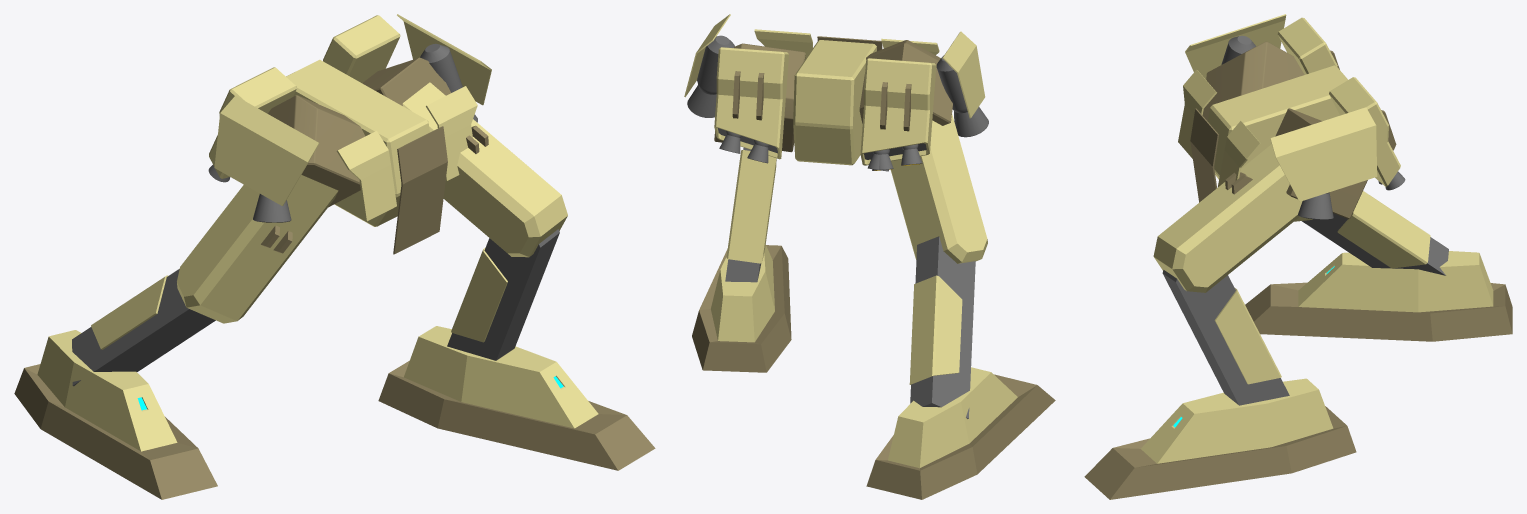
The model's file is LegsLeft.fbx.
The picture shows the model from 3 angles, left to right: view 1: azimuth 30°, elevation 25°; view 2: azimuth 150°, elevation 25°; view 3: azimuth 270°, elevation 25°; orthographic projection. The views are drawn at different scales.
Visible parts, largest first — view 1: pasted__pCube47, pasted__pCube48, pasted__pCube37, pasted__pCube31, pasted__pPlane1, pasted__pasted__pCube32, pasted__pCube38, pasted__pCube33 (×2), pasted__pasted__pCube36, pasted__pCube32, pasted__pasted__pCube40, pasted__pCube43 (+7 smaller); view 2: pasted__pCube48, pasted__pCube47, pasted__pCube33 (×2), pasted__pCube37, pasted__pasted__pCube32, pasted__pCube43, pasted__pCube39, pasted__pCube38, pasted__pPlane1, pasted__pasted__pCube40, pasted__pCylinder19, pasted__pCylinder20 (+6 smaller); view 3: pasted__pCube47, pasted__pCube48, pasted__pCube31, pasted__pCube33 (×2), pasted__pPlane2, pasted__pasted__pCube32, pasted__pCube32, pasted__pasted__pCube40, pasted__pCube43, pasted__pPlane1, pasted__pCube38, pasted__pCube39 (+6 smaller).
Boxes of the visible parts, x1,y1,x2,y2 form: pasted__pCube47: [378, 326, 655, 470]; pasted__pCube48: [14, 330, 217, 499]; pasted__pCube37: [177, 175, 338, 323]; pasted__pCube31: [402, 82, 567, 257]; pasted__pPlane1: [214, 95, 319, 205]; pasted__pasted__pCube32: [286, 59, 429, 226]; pasted__pCube38: [72, 269, 215, 386]; pasted__pCube33 (×2): [91, 247, 507, 349]; pasted__pasted__pCube36: [393, 126, 447, 254]; pasted__pCube32: [447, 229, 559, 360]; pasted__pasted__pCube40: [268, 95, 365, 207]; pasted__pCube43: [323, 15, 400, 82]; pasted__pCube48: [866, 367, 1055, 499]; pasted__pCube47: [692, 244, 791, 372]; pasted__pCube33 (×2): [726, 150, 962, 384]; pasted__pCube37: [890, 114, 987, 263]; pasted__pasted__pCube32: [793, 40, 876, 165]; pasted__pCube43: [714, 47, 788, 159]; pasted__pCube39: [860, 58, 936, 165]; pasted__pCube38: [910, 236, 975, 418]; pasted__pPlane1: [942, 31, 985, 118]; pasted__pasted__pCube40: [859, 40, 952, 125]; pasted__pCylinder19: [687, 35, 734, 117]; pasted__pCylinder20: [936, 55, 988, 137]; pasted__pCube47: [1084, 378, 1356, 499]; pasted__pCube48: [1245, 251, 1512, 341]; pasted__pCube31: [1153, 144, 1302, 292]; pasted__pCube33 (×2): [1214, 191, 1430, 384]; pasted__pPlane2: [1270, 107, 1377, 201]; pasted__pasted__pCube32: [1207, 65, 1347, 179]; pasted__pCube32: [1162, 270, 1289, 405]; pasted__pasted__pCube40: [1202, 41, 1304, 120]; pasted__pCube43: [1329, 77, 1400, 186]; pasted__pPlane1: [1185, 14, 1286, 79]; pasted__pCube38: [1302, 213, 1448, 275]; pasted__pCube39: [1277, 17, 1337, 74].
Size of the model in its own units: 18.5 by 14.54 by 16.7.
